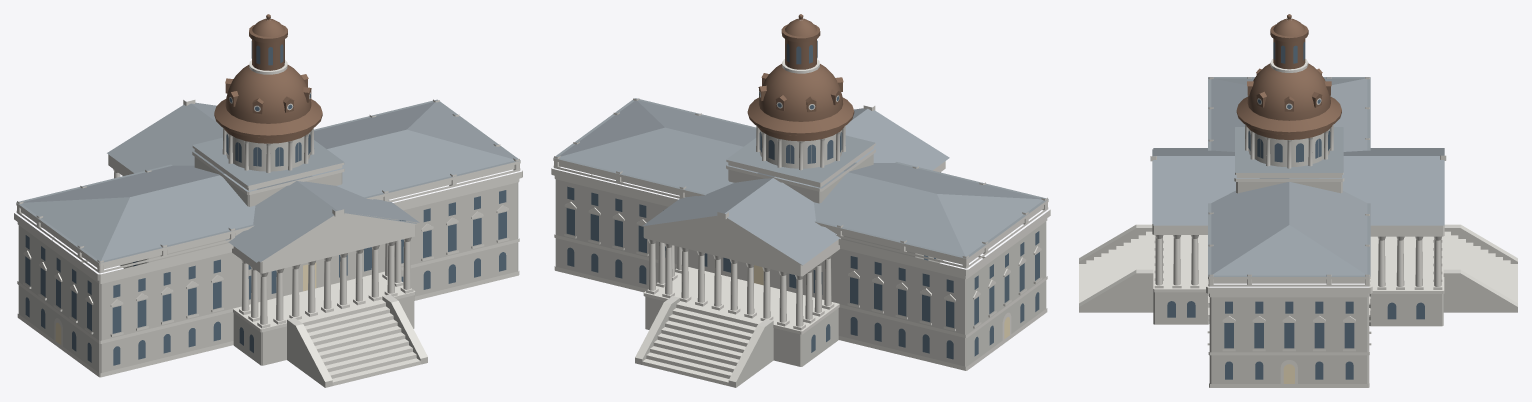
File: cola-state-house.glb
3 renders of one model, left to right at view 1: azimuth 30°, elevation 25°; view 2: azimuth 150°, elevation 25°; view 3: azimuth 270°, elevation 25°, orthographic. The views are drawn at different scales.
Visible parts, largest first — view 1: South Carolina State House; view 2: South Carolina State House; view 3: South Carolina State House.
Boxes of the visible parts, x1=… form: South Carolina State House: x1=14, y1=14, x2=522, y2=387; South Carolina State House: x1=551, y1=14, x2=1050, y2=387; South Carolina State House: x1=1079, y1=14, x2=1517, y2=387.
Size of the model in its own units: 83.4 by 52.9 by 76.7.
